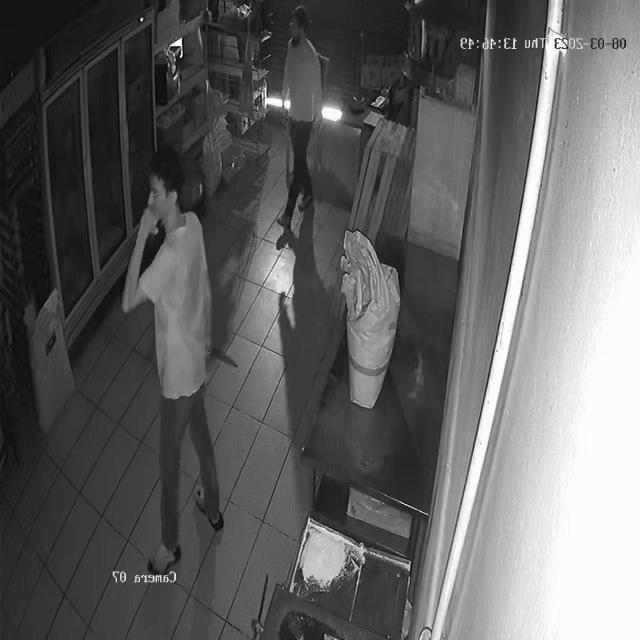Knife: (202, 335, 244, 374)
